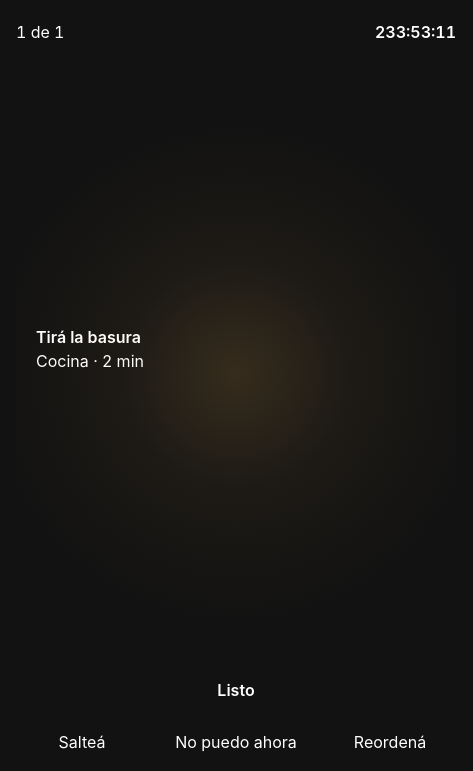
Test: al terminar el último paso muestra el cierre, y no un error
Expected: the element showing "Tirá la basura Cocina · 2 min" is shown, [36,327,144,371]
Click the button "Listo" at (236, 690), box [16,658,456,722]
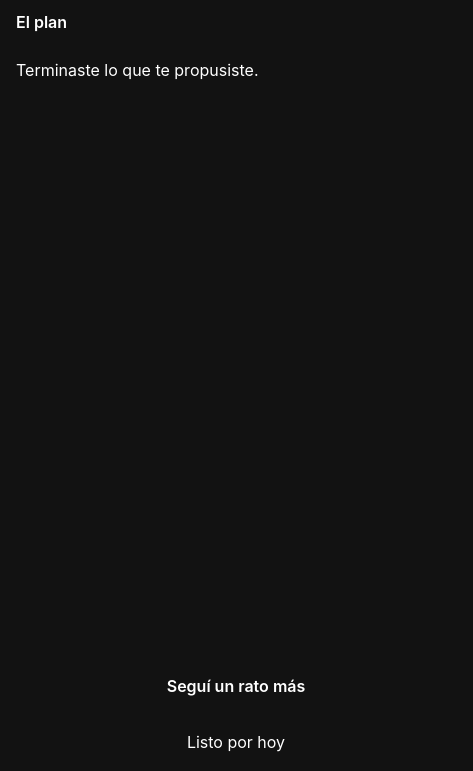
Now the text "Terminaste lo que te propusiste." is shown, box [16,60,258,80]
Now the button "Listo por hoy" is shown, box [16,730,456,754]
Now the button "Seguí un rato más" is shown, box [16,654,456,718]
